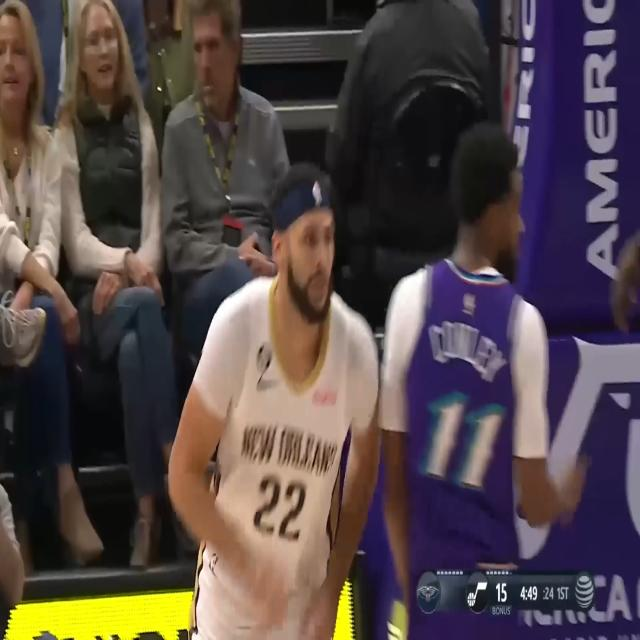Overlay: (417, 568, 596, 614)
Player: (378, 120, 591, 640), (167, 164, 380, 640), (609, 124, 640, 640)
Scoreboard: (417, 568, 572, 614)
